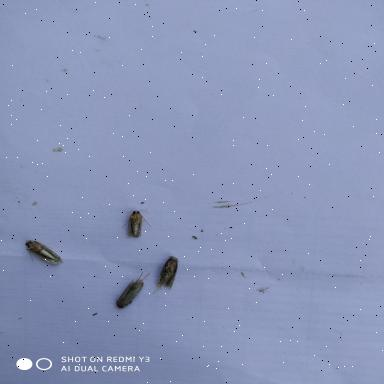pbw: (109, 268, 158, 312), (146, 251, 187, 295), (18, 237, 66, 273), (123, 206, 155, 242)
